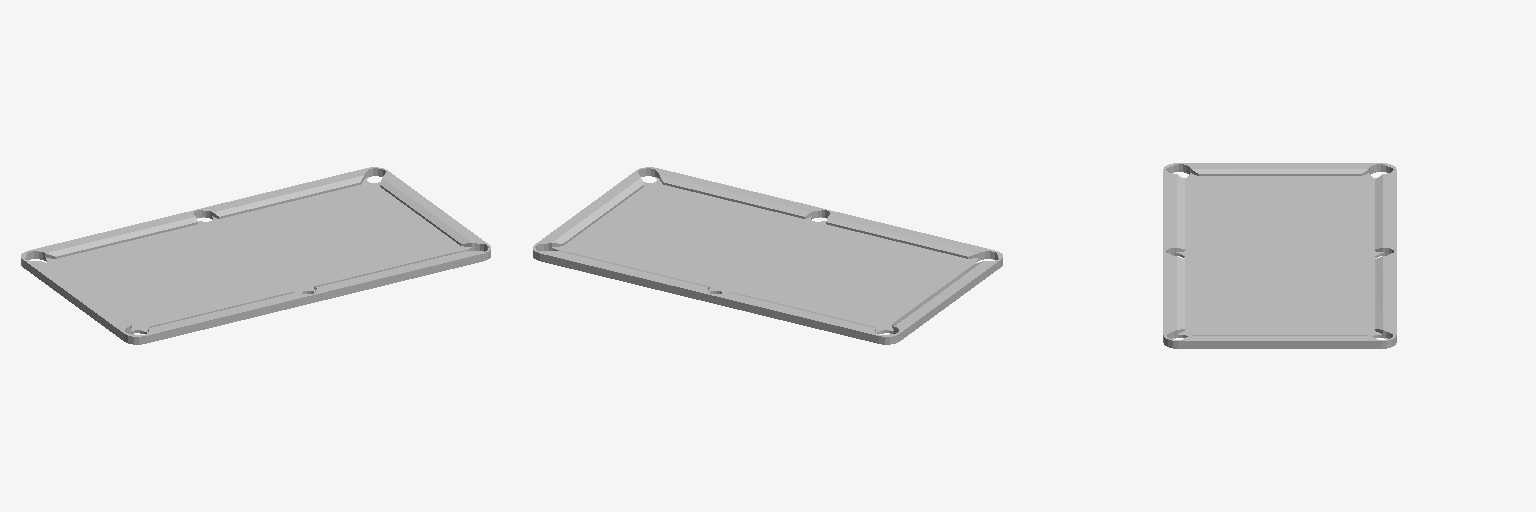
The model's file is table_small [table].obj.
The picture shows the model from 3 angles: view 1: azimuth 30°, elevation 25°; view 2: azimuth 150°, elevation 25°; view 3: azimuth 270°, elevation 25°; orthographic projection.
Parts seen in each view (by area): view 1: table_Cube; view 2: table_Cube; view 3: table_Cube.
Boxes of the visible parts, <box> form: table_Cube: <box>21,167,490,344</box>; table_Cube: <box>533,167,1002,344</box>; table_Cube: <box>1163,163,1396,348</box>.
Bounding box in the file's own units: 2.12 × 0.0437 × 1.17.